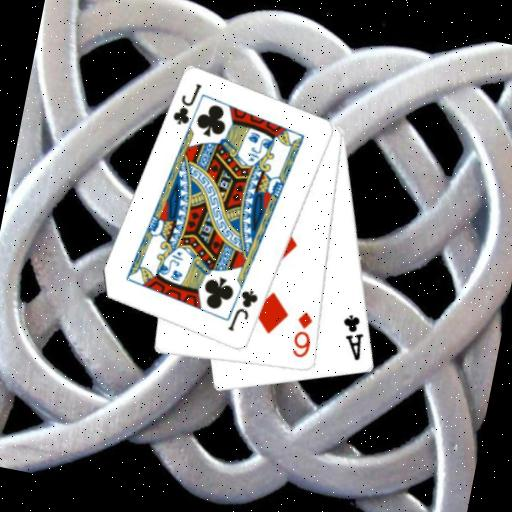6D: (288, 308, 319, 362)
AC: (334, 310, 370, 363)
JC: (225, 284, 262, 337), (168, 77, 205, 130)
